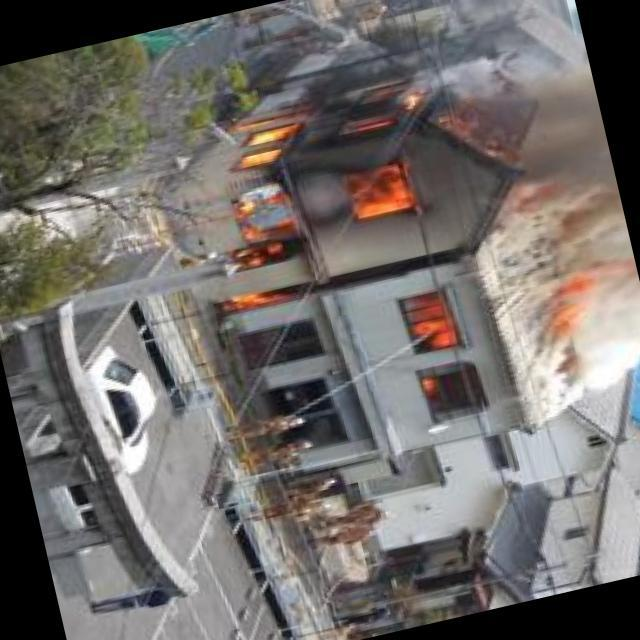Fire: (178, 56, 489, 325), (531, 218, 640, 346), (393, 283, 471, 428)
